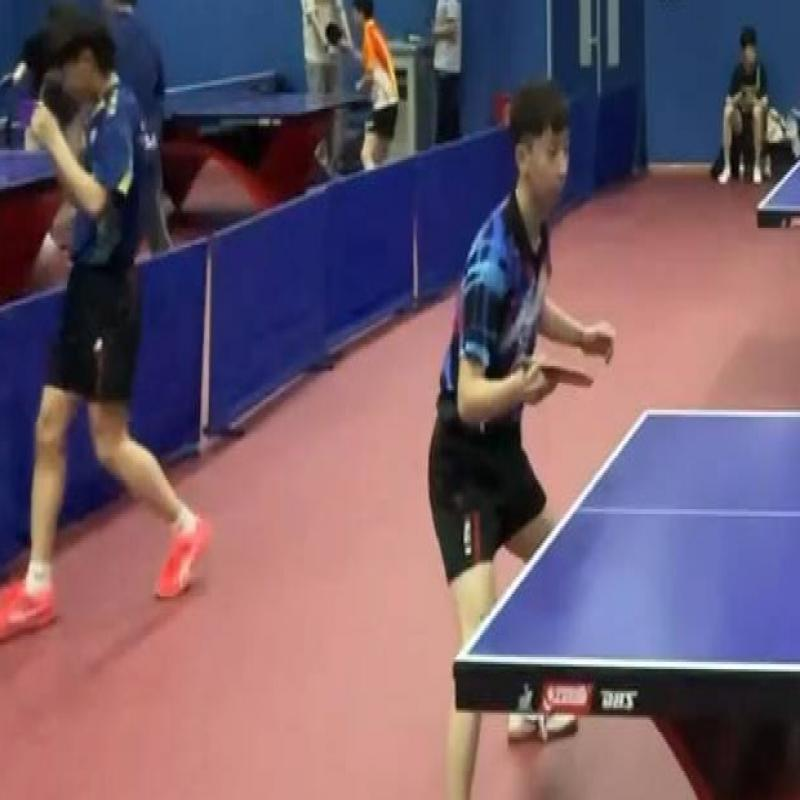bats: (522, 344, 606, 420)
